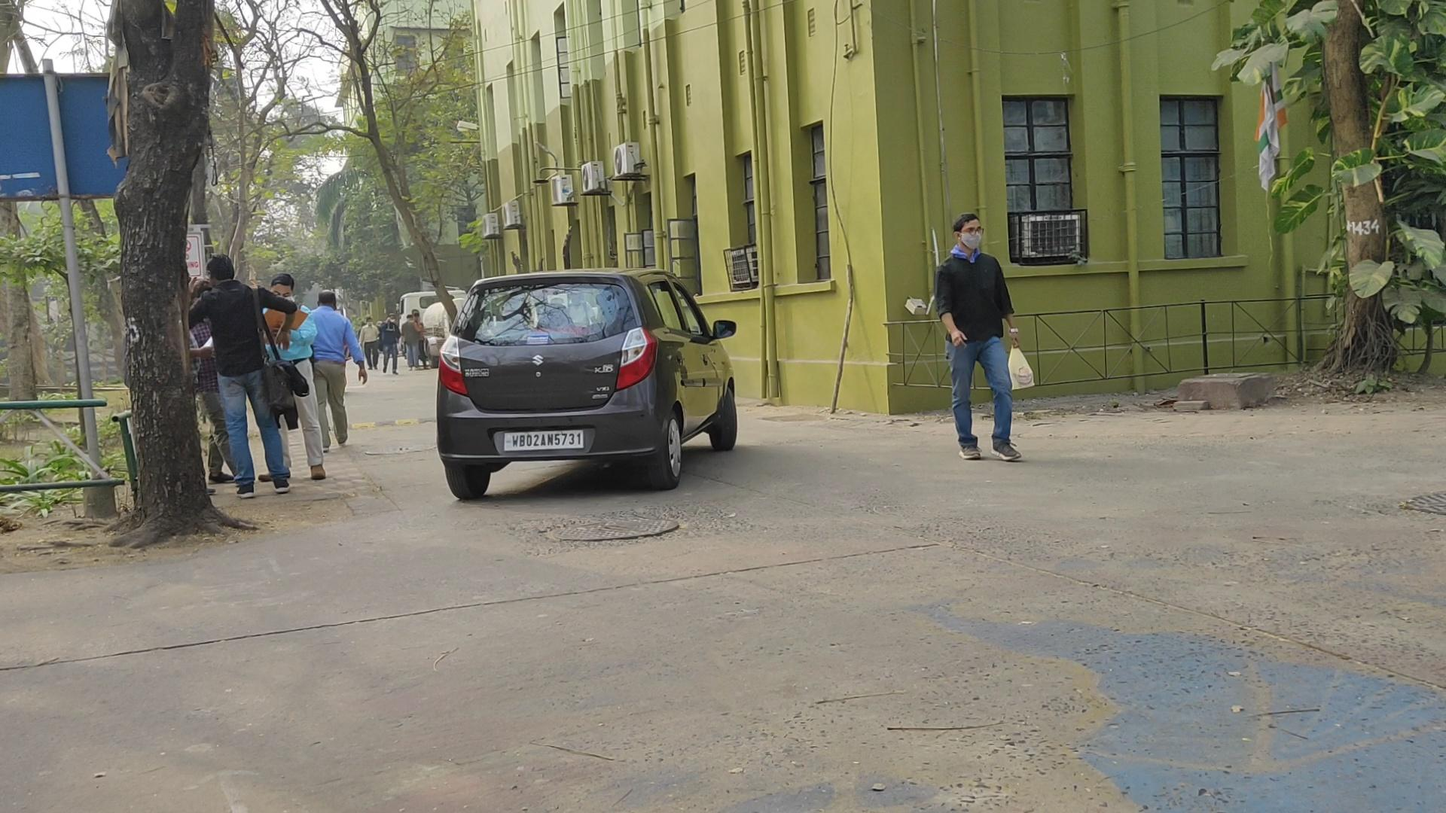car: (437, 268, 738, 501)
